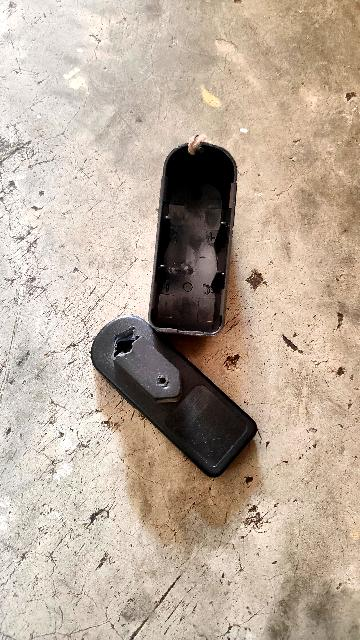hardplastic: (92, 127, 276, 468)
